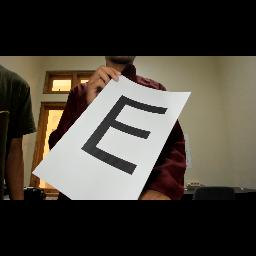e: (81, 93, 171, 175)
